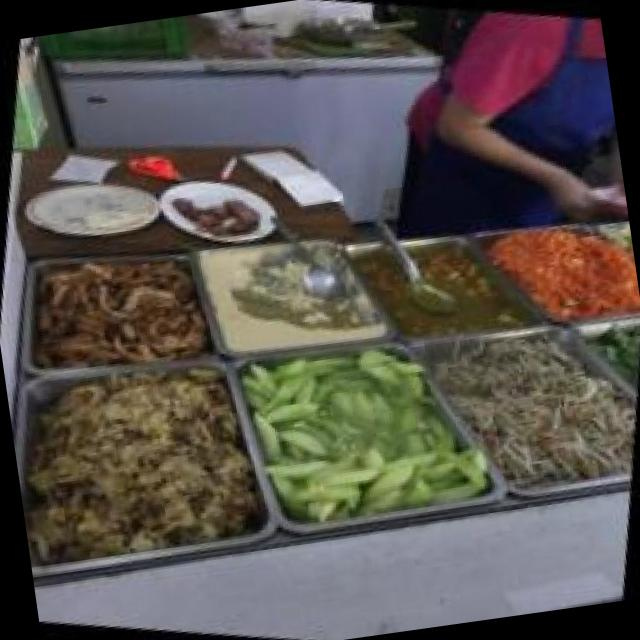carrot_eggs: (505, 216, 640, 337)
chinese_sausage: (166, 180, 260, 246)
curry: (343, 230, 530, 358)
fried_eggs: (77, 198, 151, 242)
mung_bean_sprouts: (431, 314, 640, 505)
